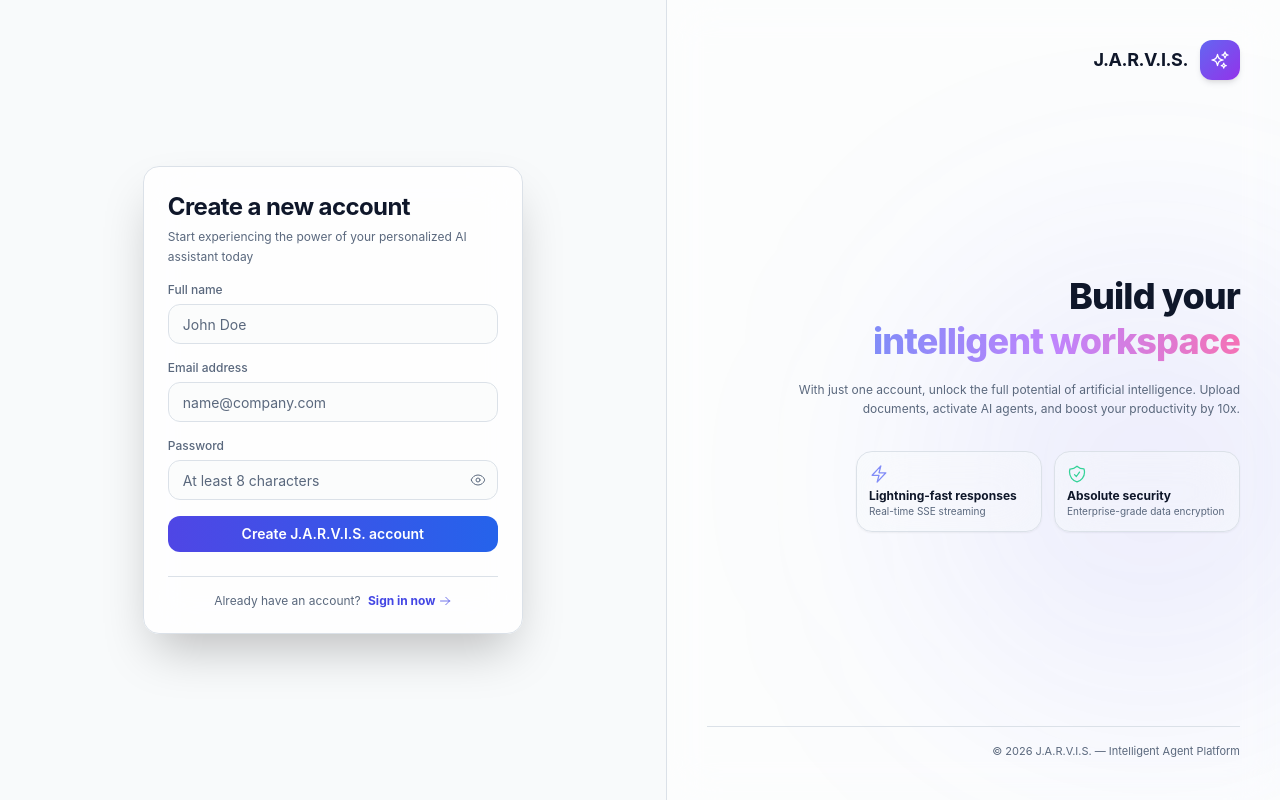
Test: RegisterPage › shows the translated password strength label (en)
Type "abc12345" into the password field labelled "Password" at (333, 480), box [168,460,498,500]
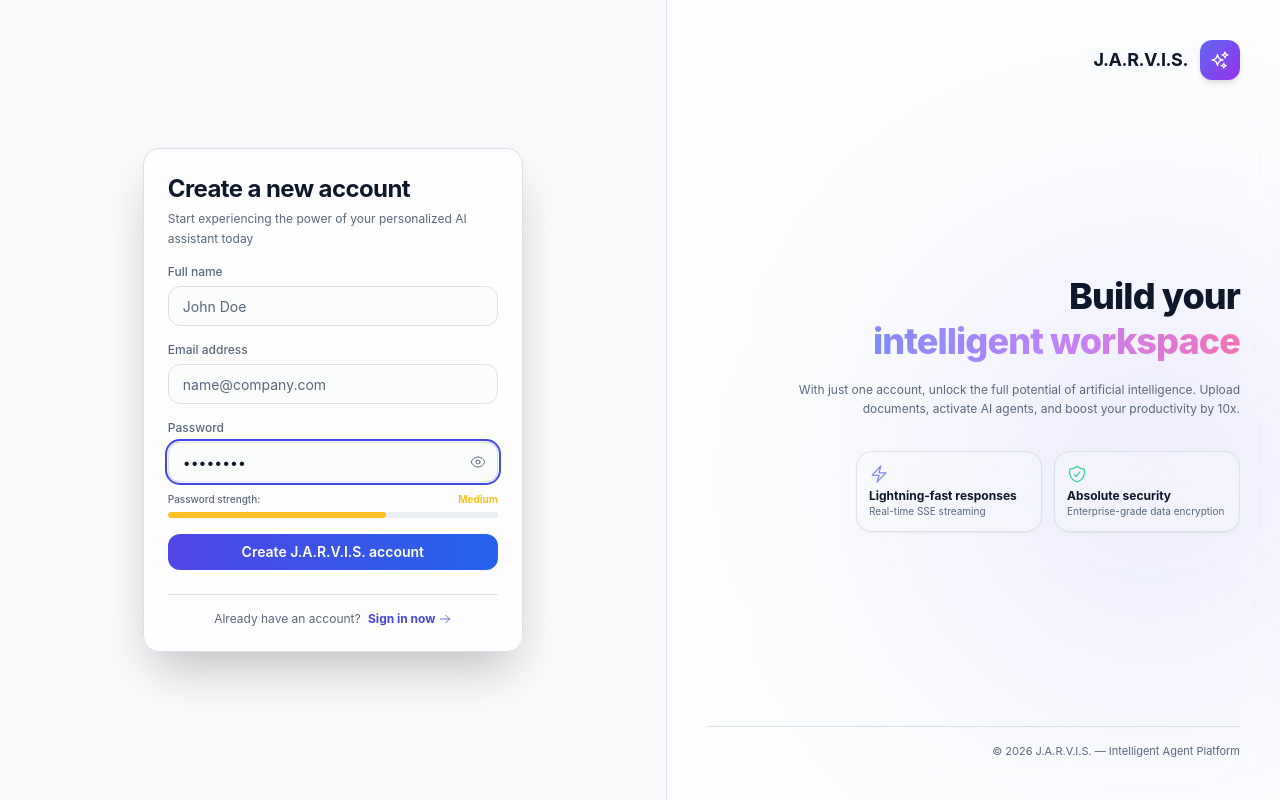
Expected: the text "Password strength:" is shown, [168,492,260,508]
